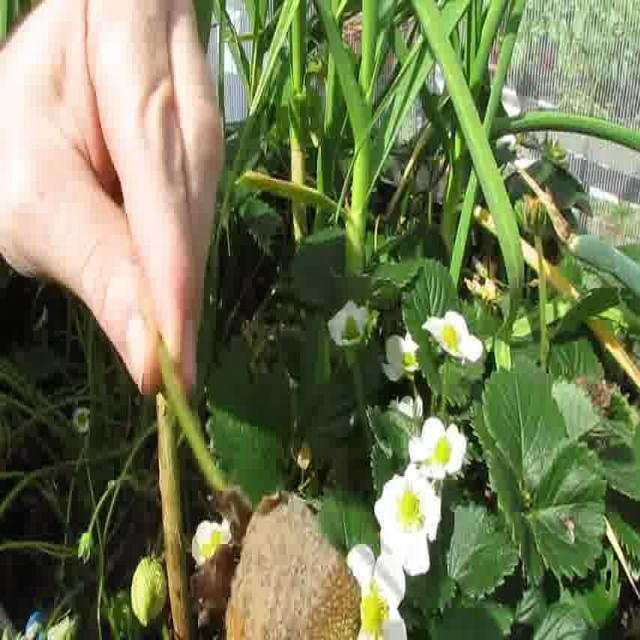Fruta sana: (130, 556, 167, 626), (342, 313, 360, 340), (78, 532, 94, 562)
Moho gris: (225, 488, 366, 638)
